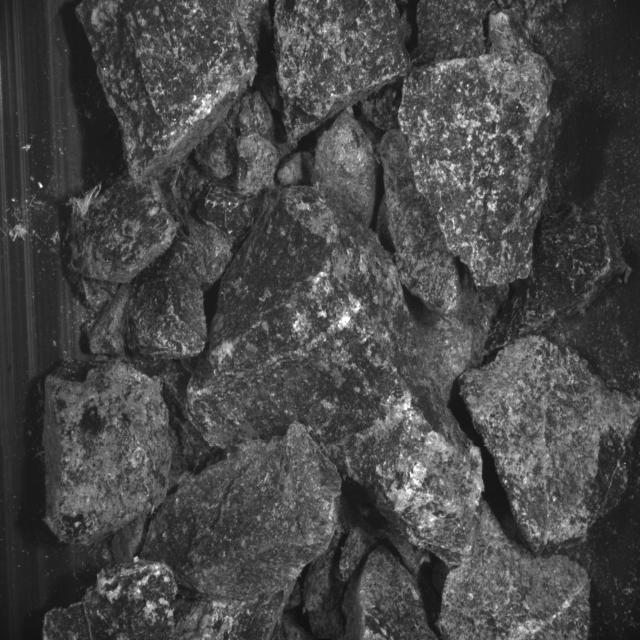Stones: (187, 188, 484, 563), (461, 336, 640, 553), (400, 53, 554, 287), (144, 423, 342, 601), (77, 1, 264, 180), (45, 362, 172, 545), (440, 507, 591, 640), (275, 1, 411, 142), (127, 219, 234, 360), (380, 131, 461, 314), (71, 180, 177, 284), (44, 559, 179, 640), (344, 547, 437, 640), (314, 112, 379, 229), (415, 1, 494, 66), (239, 134, 280, 196)
